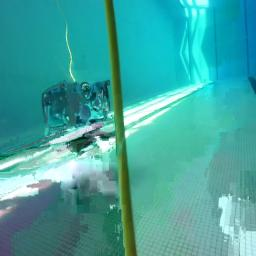front: (41, 80, 110, 128)
